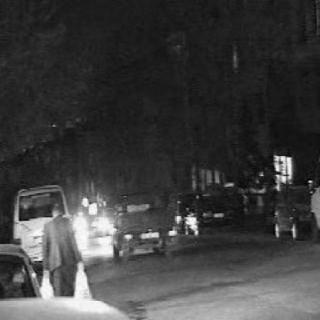other: (66, 195, 120, 257)
